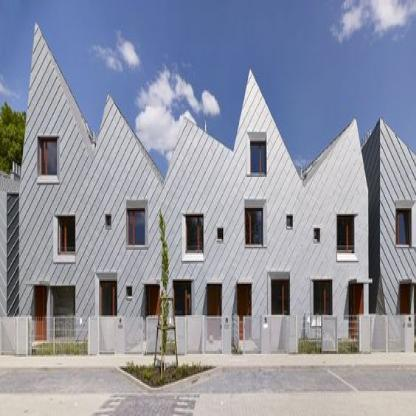Building Outline: (19, 22, 372, 341)
Cornice: (349, 278, 372, 284), (27, 283, 50, 286)
Door: (52, 286, 75, 340), (271, 279, 290, 340), (314, 281, 333, 340), (100, 281, 117, 340), (175, 282, 191, 340), (349, 284, 364, 340), (207, 284, 222, 340), (238, 284, 252, 340), (148, 286, 160, 340), (36, 286, 48, 340)
Facade: (19, 22, 373, 342)
Roof: (37, 25, 98, 160), (109, 95, 164, 186), (294, 120, 354, 186)
Window: (58, 216, 75, 255), (39, 140, 57, 175), (128, 208, 145, 245), (186, 216, 203, 253), (246, 208, 263, 245), (338, 216, 355, 253), (250, 141, 266, 174), (315, 228, 320, 239), (218, 228, 223, 239), (287, 216, 292, 227), (106, 216, 111, 225), (127, 287, 131, 297)
